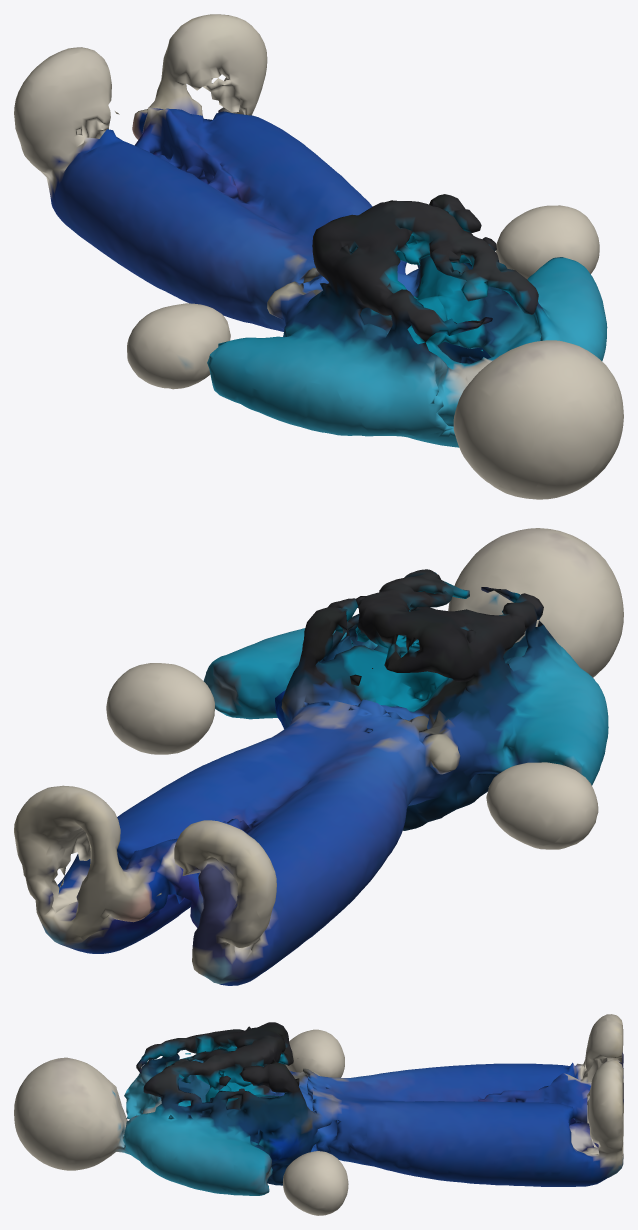
Rendered from grandfather.glb.
The picture shows the model from 3 angles, top to bottom: view 1: azimuth 30°, elevation 25°; view 2: azimuth 150°, elevation 25°; view 3: azimuth 270°, elevation 25°; orthographic projection. The views are drawn at different scales.
Bounding box in the file's own units: 0.6086 × 0.2457 × 0.9998.
